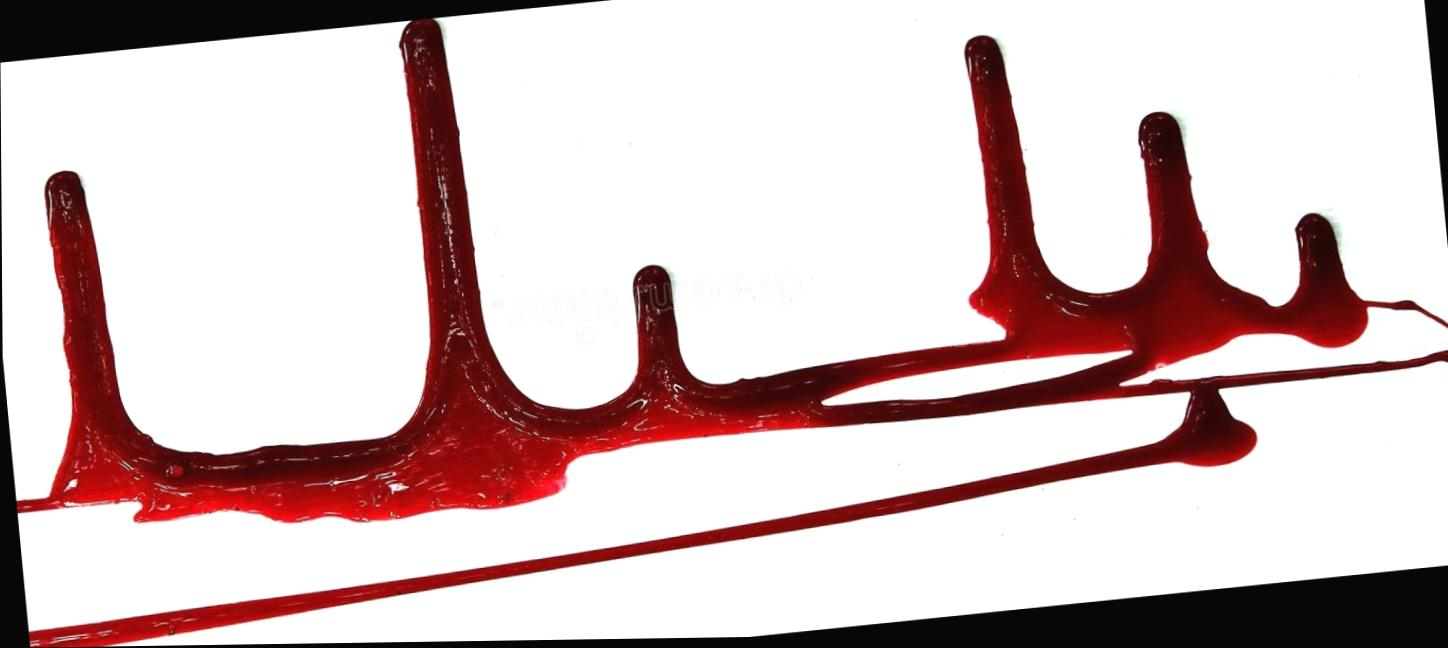Fire: (16, 19, 1448, 648)
